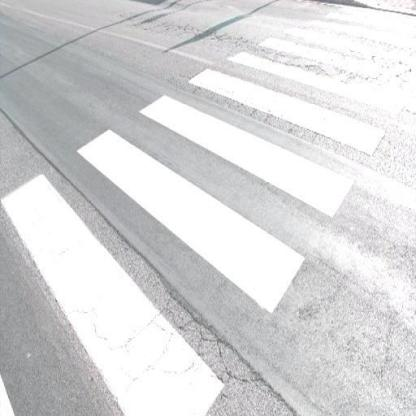crosswalk: (138, 64, 392, 220), (320, 4, 414, 37)
